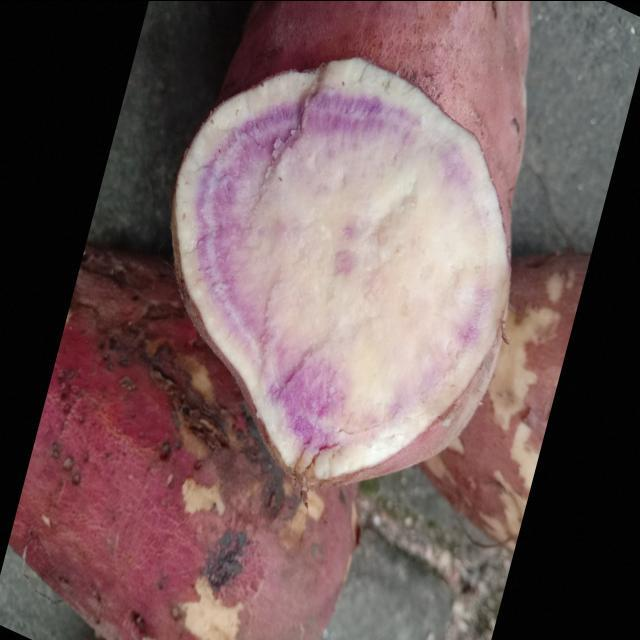Healthy Sweet Potato: (174, 58, 509, 482)
